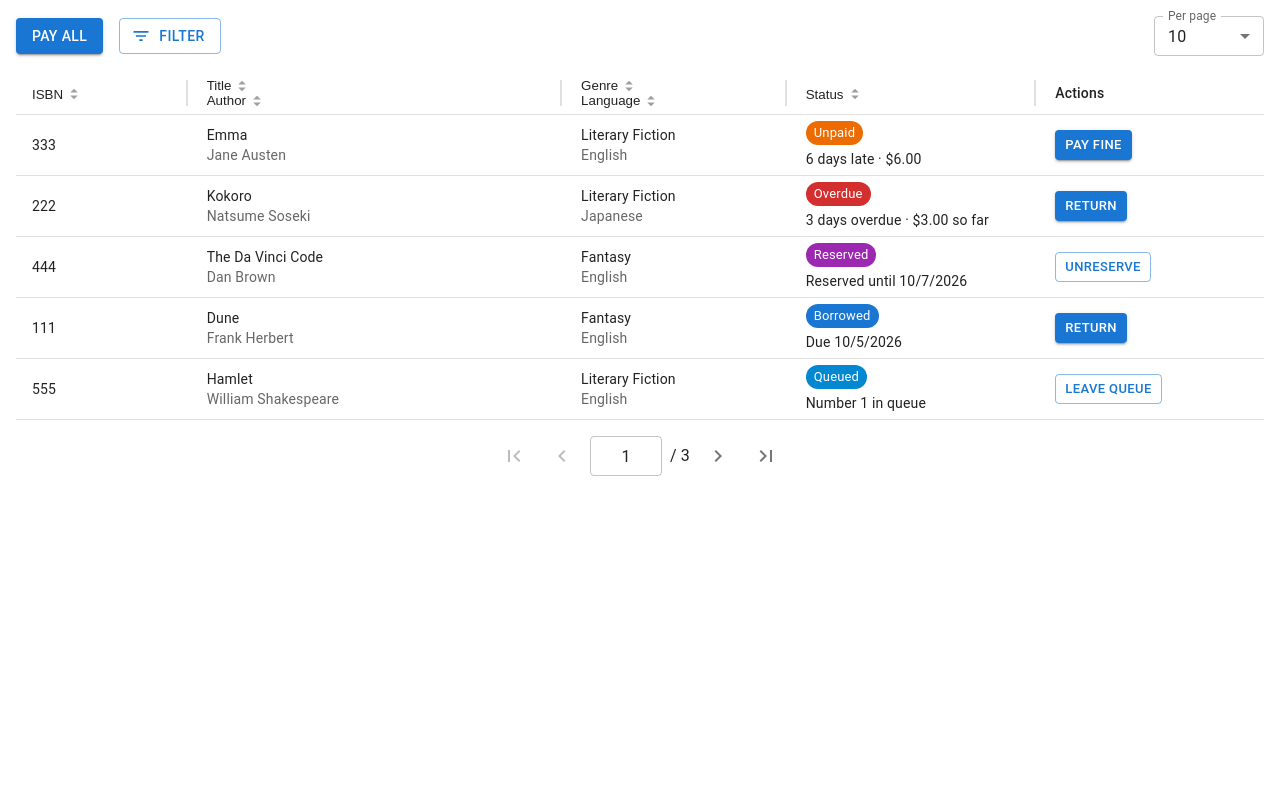
Test: ReturnPage › returns a book after confirming and reloads the list
The image size is (1280, 800).
Click the button with test id "return-return-1" at [1091, 328], box [1055,313,1127,344]
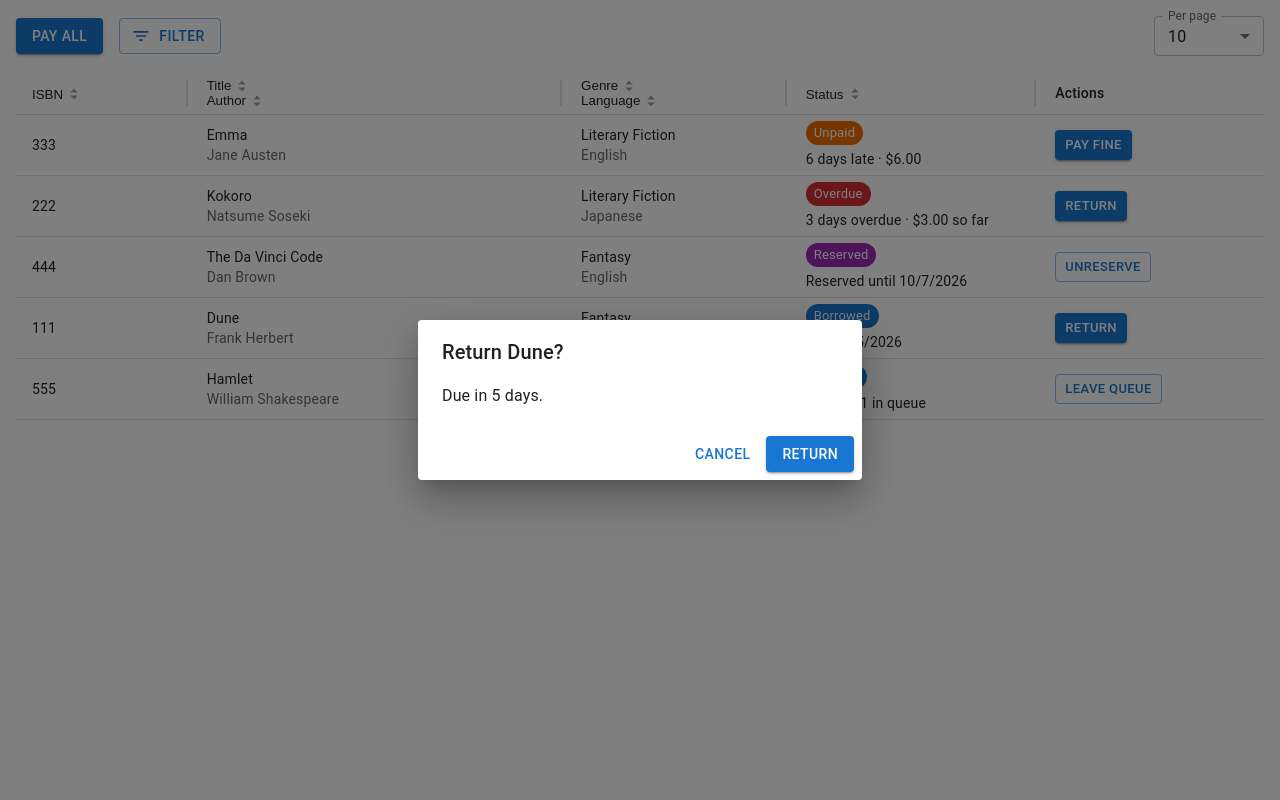
Expected: the element with test id "return-confirm-dialog" shows "Return Dune?", [442,340,564,364]
Expected: the element with test id "return-confirm-dialog" shows "Due in 5 days.", [442,386,543,405]
Expected: the button with test id "return-confirm-confirm" reads "Return"
Click the button with test id "return-confirm-confirm" at [810, 454], box [766,436,854,472]
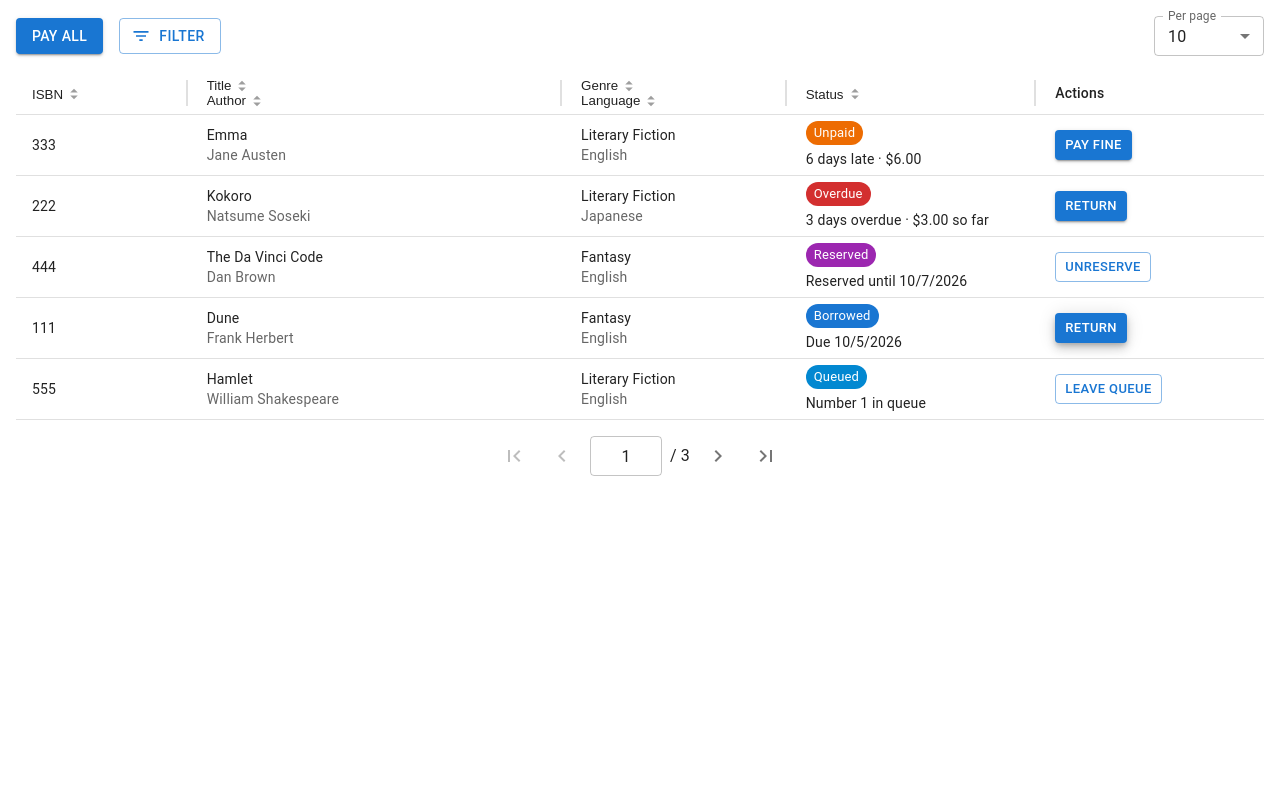
Expected: the element with test id "return-confirm-dialog" is gone
